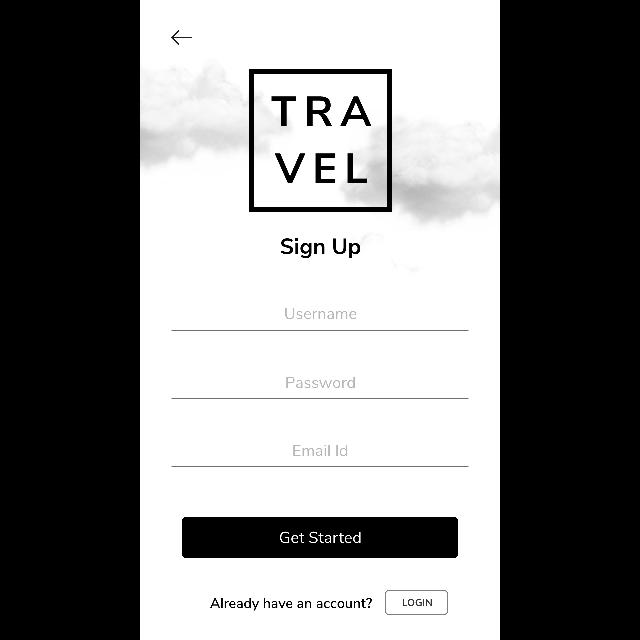icon: (172, 30, 192, 46)
image: (250, 70, 392, 212)
input: (172, 444, 468, 468), (172, 307, 468, 331), (172, 376, 468, 399)
text: (210, 598, 372, 610), (281, 238, 361, 258), (286, 308, 356, 320), (286, 376, 354, 388), (293, 444, 347, 456)
textbutton: (182, 518, 458, 558), (386, 590, 448, 614)
